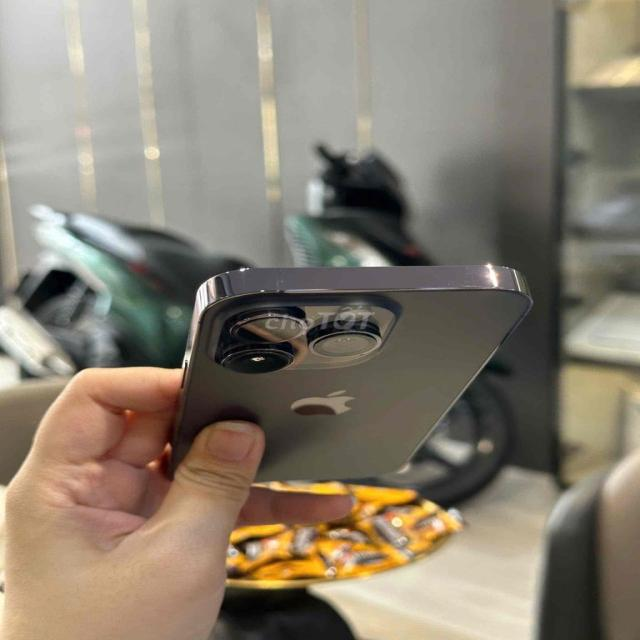gen_14: (155, 250, 537, 501)
